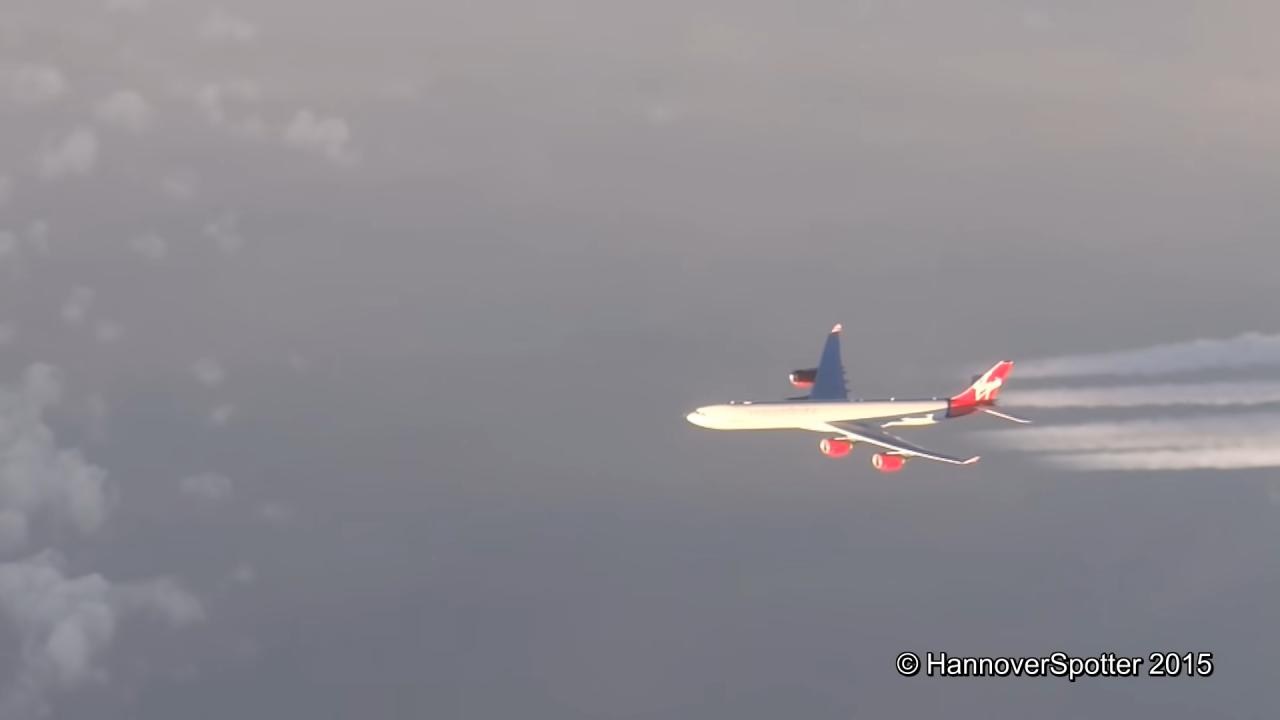Airplane: (674, 308, 1040, 494)
